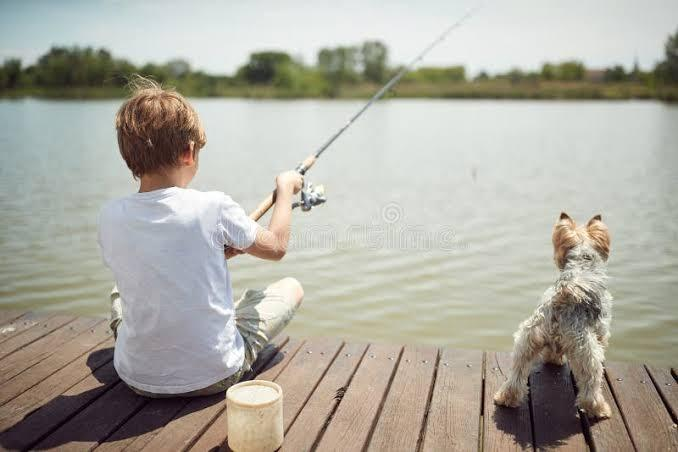adult_dog: (491, 211, 617, 424)
non-dog: (92, 74, 306, 399)
